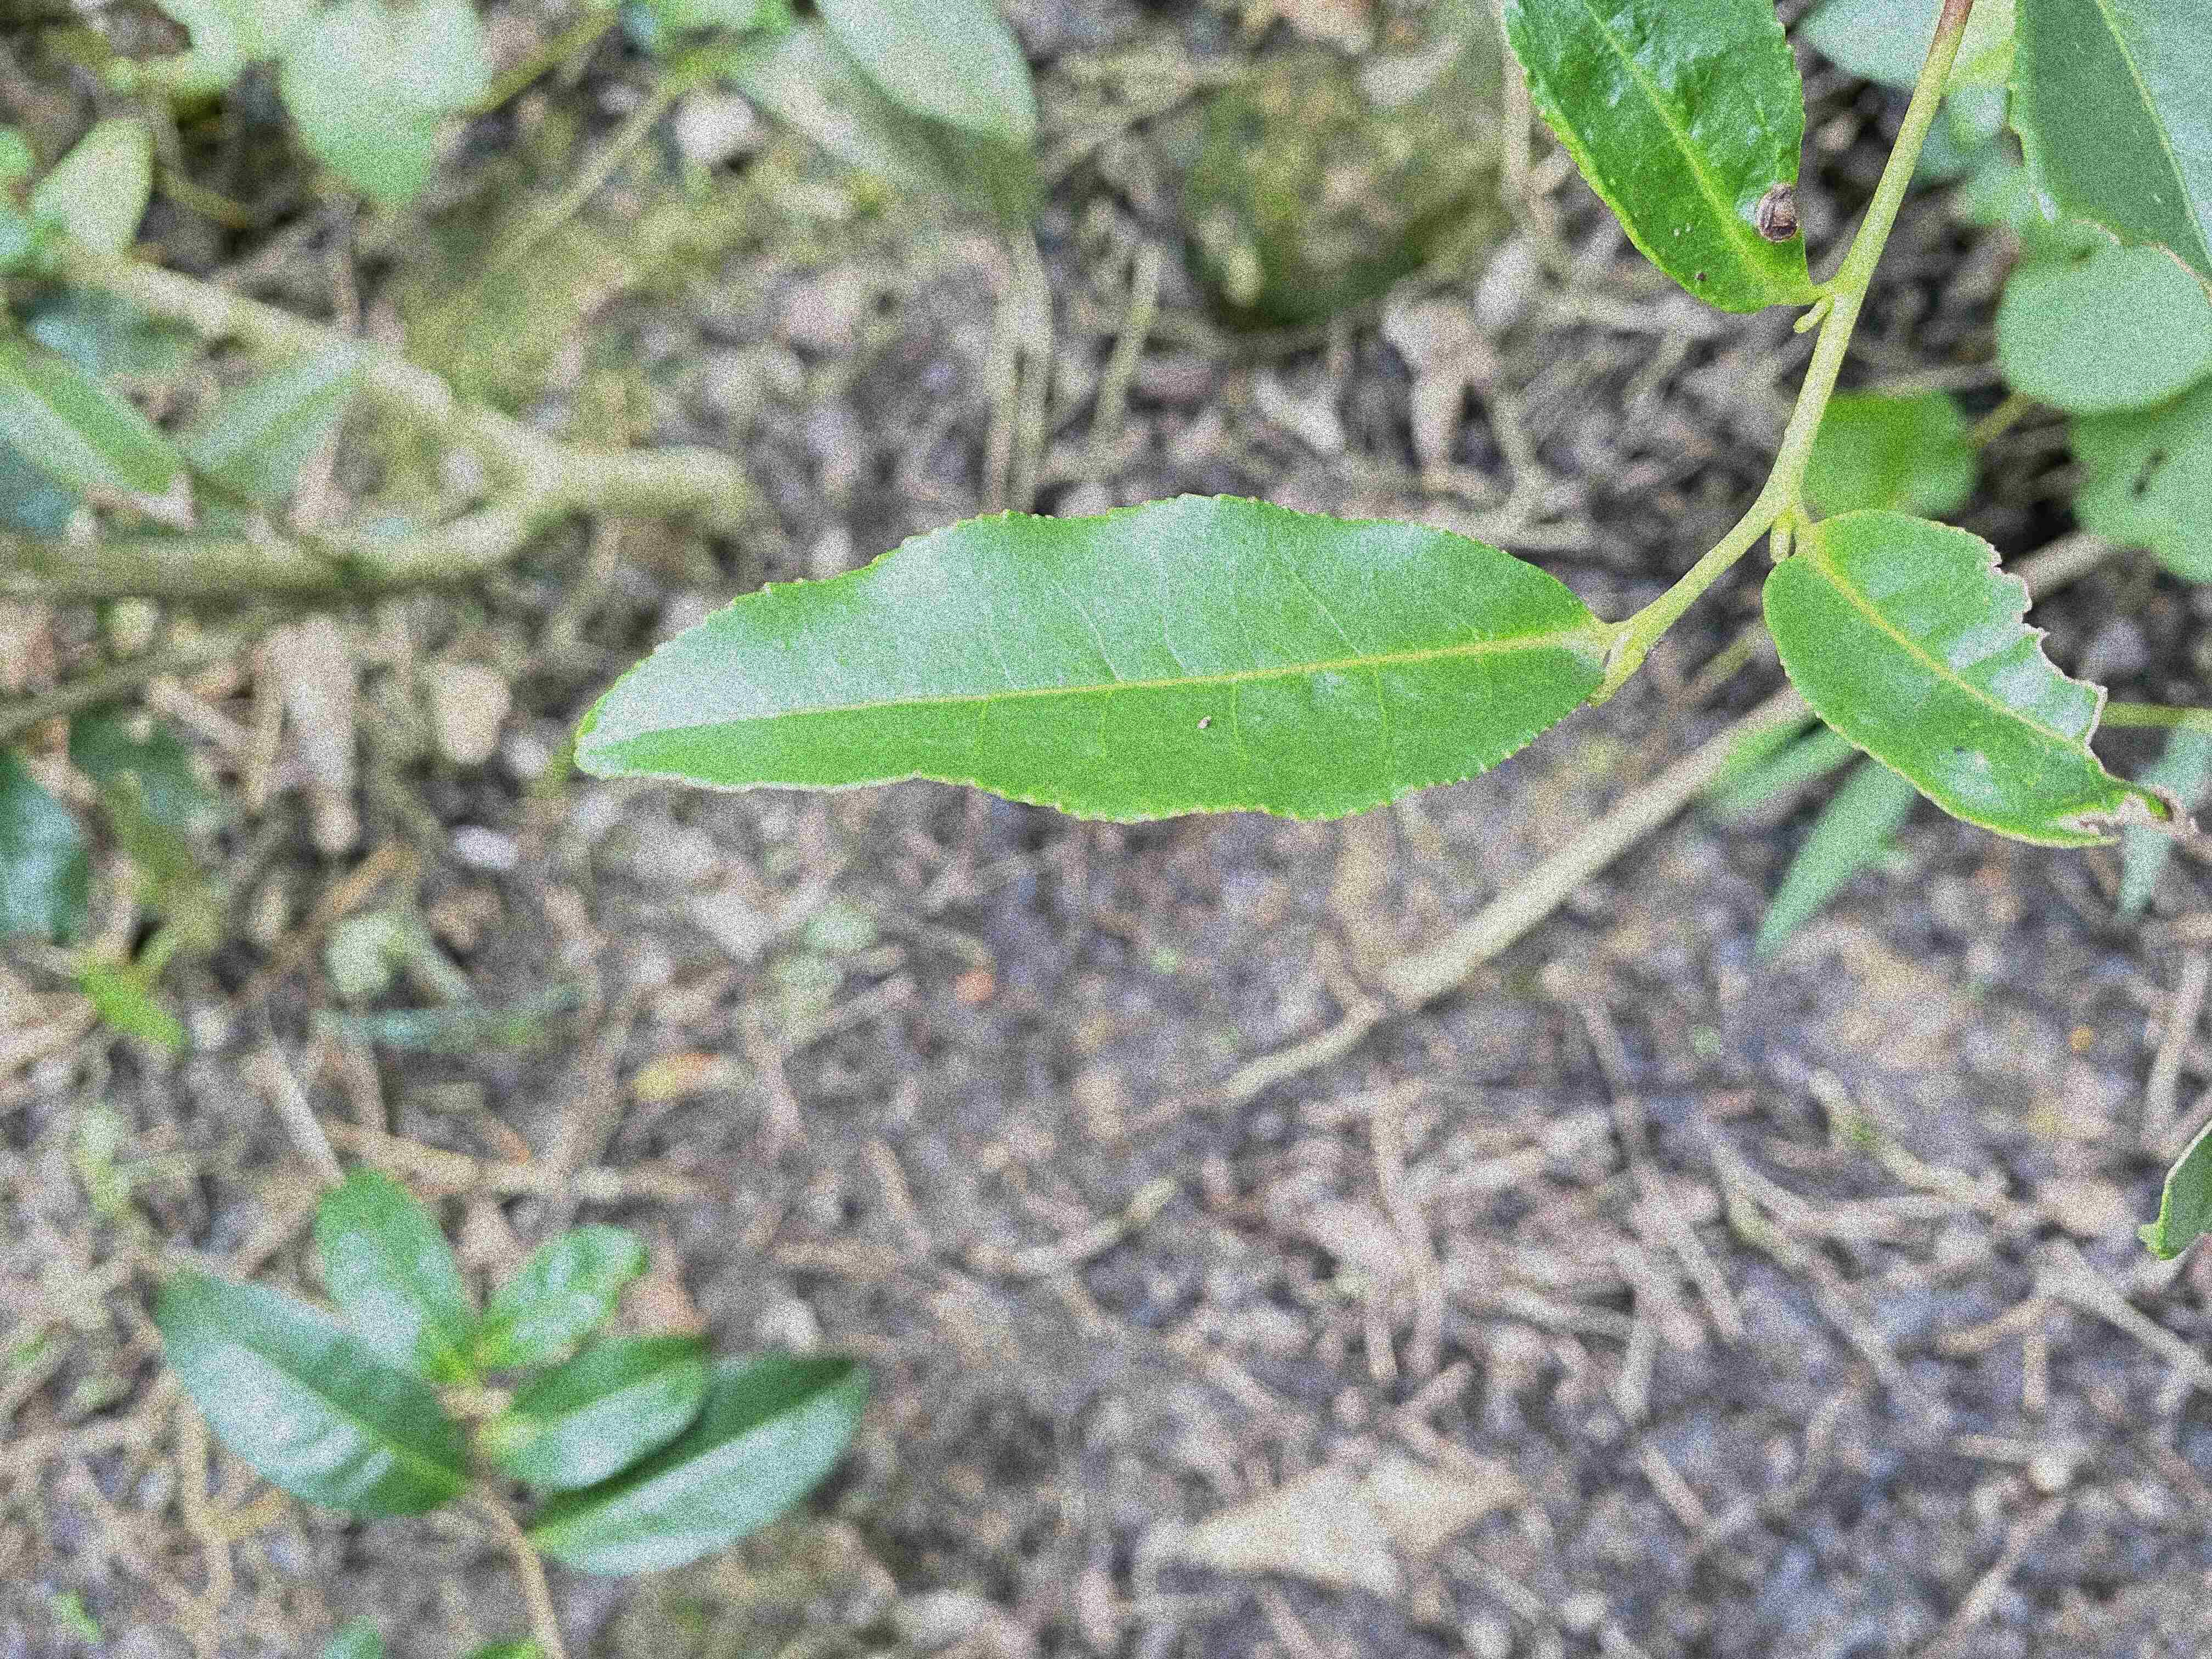chihuo_high: (1764, 505, 2172, 849)
healthy: (571, 490, 1613, 826)
tanju_low: (1496, 2, 1820, 314)
